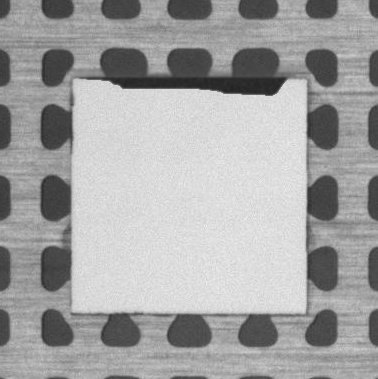DIE_BROKEN: (75, 74, 289, 97)
